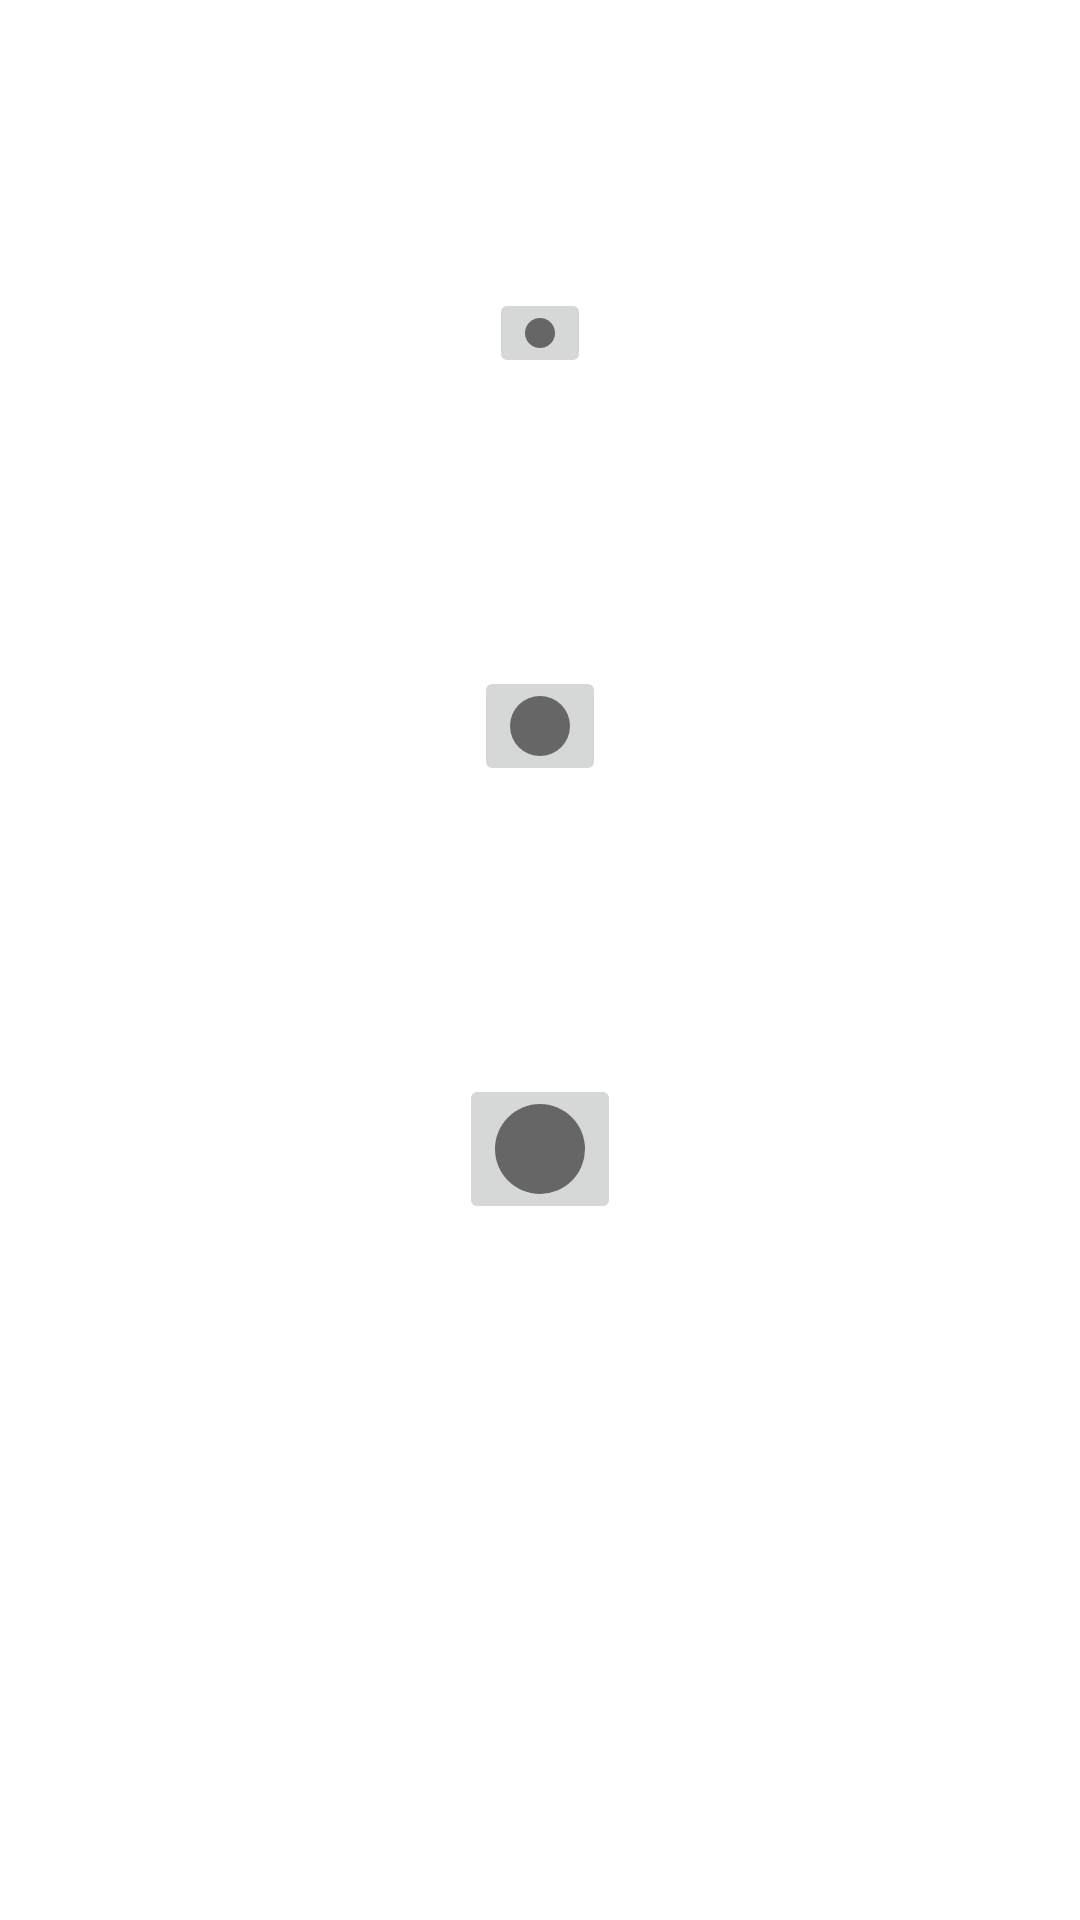

Icons on this 1080px x 1920px Android screen, each with the point to tap as (x,y):
Large Brush: (540,1149)
Medium Brush: (540,726)
Small Brush: (540,333)
